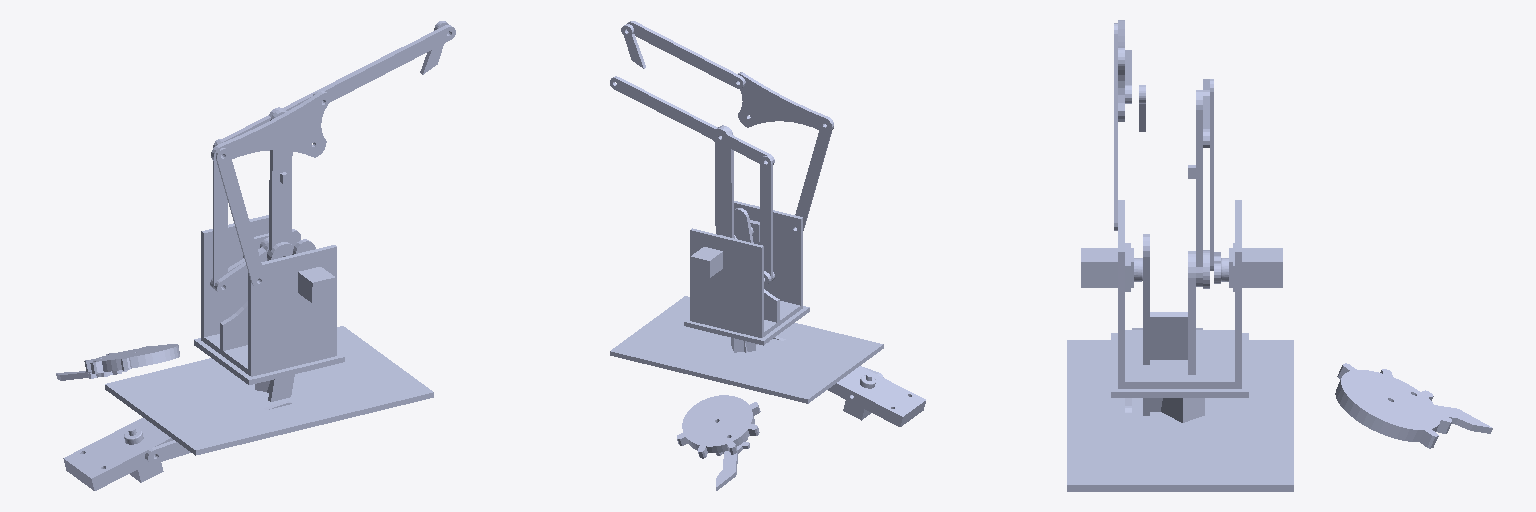
robot.urdf — robot_arm_urdf2:
<?xml version="1.0" encoding="utf-8"?>
<!-- This URDF was automatically created by SolidWorks to URDF Exporter! Originally created by [author] ([email redacted]) 
     Commit Version: 1.6.0-4-g7f85cfe  Build Version: 1.6.7995.38578
     For more information, please see http://wiki.ros.org/sw_urdf_exporter -->
<robot
  name="robot_arm_urdf2">
  <link
    name="base_link">
    <inertial>
      <origin
        xyz="0.00098773 0.00036668 0.026759"
        rpy="0 0 0" />
      <mass
        value="0.09553" />
      <inertia
        ixx="4.2897E-05"
        ixy="-2.011E-08"
        ixz="-3.3533E-07"
        iyy="8.7515E-05"
        iyz="4.8236E-09"
        izz="0.00011674" />
    </inertial>
    <visual>
      <origin
        xyz="0 0 0"
        rpy="0 0 0" />
      <geometry>
        <mesh
          filename="package://robot_arm_urdf2/meshes/base_link.STL" />
      </geometry>
      <material
        name="">
        <color
          rgba="0.79216 0.81961 0.93333 1" />
      </material>
    </visual>
    <collision>
      <origin
        xyz="0 0 0"
        rpy="0 0 0" />
      <geometry>
        <mesh
          filename="package://robot_arm_urdf2/meshes/base_link.STL" />
      </geometry>
    </collision>
  </link>
  <link
    name="Link_2">
    <inertial>
      <origin
        xyz="0.010261 0.00032954 0.054832"
        rpy="0 0 0" />
      <mass
        value="0.009426" />
      <inertia
        ixx="3.9911E-06"
        ixy="-1.7068E-10"
        ixz="-4.2478E-07"
        iyy="5.4466E-06"
        iyz="-1.3984E-08"
        izz="1.6595E-06" />
    </inertial>
    <visual>
      <origin
        xyz="0 0 0"
        rpy="0 0 0" />
      <geometry>
        <mesh
          filename="package://robot_arm_urdf2/meshes/Link_2.STL" />
      </geometry>
      <material
        name="">
        <color
          rgba="0.79216 0.81961 0.93333 1" />
      </material>
    </visual>
    <collision>
      <origin
        xyz="0 0 0"
        rpy="0 0 0" />
      <geometry>
        <mesh
          filename="package://robot_arm_urdf2/meshes/Link_2.STL" />
      </geometry>
    </collision>
  </link>
  <joint
    name="joint_2"
    type="revolute">
    <origin
      xyz="0.011 -0.0125 0.074"
      rpy="0 0 0" />
    <parent
      link="base_link" />
    <child
      link="Link_2" />
    <axis
      xyz="0 1 0" />
    <limit
      lower="3.48"
      upper="3.142"
      effort="300"
      velocity="3" />
  </joint>
  <link
    name="Link_3">
    <inertial>
      <origin
        xyz="0.083282 -0.01623 0.024264"
        rpy="0 0 0" />
      <mass
        value="0.015764" />
      <inertia
        ixx="1.3569E-06"
        ixy="4.4614E-10"
        ixz="-2.8646E-07"
        iyy="1.357E-06"
        iyz="-9.9912E-10"
        izz="1.8908E-06" />
    </inertial>
    <visual>
      <origin
        xyz="0 0 0"
        rpy="0 0 0" />
      <geometry>
        <mesh
          filename="package://robot_arm_urdf2/meshes/Link_3.STL" />
      </geometry>
      <material
        name="">
        <color
          rgba="0.79216 0.81961 0.93333 1" />
      </material>
    </visual>
    <collision>
      <origin
        xyz="0 0 0"
        rpy="0 0 0" />
      <geometry>
        <mesh
          filename="package://robot_arm_urdf2/meshes/Link_3.STL" />
      </geometry>
    </collision>
  </link>
  <joint
    name="joint_3"
    type="revolute">
    <origin
      xyz="0.00091242 0.0235 0.076995"
      rpy="0 0 0" />
    <parent
      link="Link_2" />
    <child
      link="Link_3" />
    <axis
      xyz="0 -1 0" />
    <limit
      lower="0"
      upper="0"
      effort="0"
      velocity="0" />
  </joint>
  <link
    name="Link_4">
    <inertial>
      <origin
        xyz="0.097771 -0.0066902 0.16372"
        rpy="0 0 0" />
      <mass
        value="0.011801" />
      <inertia
        ixx="1.8122E-06"
        ixy="-4.669E-08"
        ixz="-6.0989E-07"
        iyy="1.7021E-06"
        iyz="-2.0848E-08"
        izz="2.9057E-06" />
    </inertial>
    <visual>
      <origin
        xyz="0 0 0"
        rpy="0 0 0" />
      <geometry>
        <mesh
          filename="package://robot_arm_urdf2/meshes/Link_4.STL" />
      </geometry>
      <material
        name="">
        <color
          rgba="0.79216 0.81961 0.93333 1" />
      </material>
    </visual>
    <collision>
      <origin
        xyz="0 0 0"
        rpy="0 0 0" />
      <geometry>
        <mesh
          filename="package://robot_arm_urdf2/meshes/Link_4.STL" />
      </geometry>
    </collision>
  </link>
  <joint
    name="joint_4"
    type="revolute">
    <origin
      xyz="-0.011912 -0.011 -0.15099"
      rpy="0 0 0" />
    <parent
      link="Link_3" />
    <child
      link="Link_4" />
    <axis
      xyz="0 0 1" />
    <limit
      lower="0.87"
      upper="1.571"
      effort="300"
      velocity="3" />
  </joint>
  <link
    name="Link_5">
    <inertial>
      <origin
        xyz="0.00011656 -0.0031438 0.03813"
        rpy="0 0 0" />
      <mass
        value="0.0098791" />
      <inertia
        ixx="2.9408E-06"
        ixy="1.2652E-11"
        ixz="-9.9219E-07"
        iyy="6.6353E-06"
        iyz="1.0676E-09"
        izz="3.709E-06" />
    </inertial>
    <visual>
      <origin
        xyz="0 0 0"
        rpy="0 0 0" />
      <geometry>
        <mesh
          filename="package://robot_arm_urdf2/meshes/Link_5.STL" />
      </geometry>
      <material
        name="">
        <color
          rgba="0.79216 0.81961 0.93333 1" />
      </material>
    </visual>
    <collision>
      <origin
        xyz="0 0 0"
        rpy="0 0 0" />
      <geometry>
        <mesh
          filename="package://robot_arm_urdf2/meshes/Link_5.STL" />
      </geometry>
    </collision>
  </link>
  <joint
    name="joint_5"
    type="revolute">
    <origin
      xyz="0.011 0.014 0.074"
      rpy="0 0 0" />
    <parent
      link="base_link" />
    <child
      link="Link_5" />
    <axis
      xyz="0 -1 0" />
    <limit
      lower="0"
      upper="1.65"
      effort="300"
      velocity="3" />
  </joint>
  <link
    name="Link_6">
    <inertial>
      <origin
        xyz="0.058512 0.0011651 0.0054999"
        rpy="0 0 0" />
      <mass
        value="0.0070977" />
      <inertia
        ixx="8.6666E-07"
        ixy="1.3043E-21"
        ixz="-2.1265E-07"
        iyy="3.254E-06"
        iyz="3.0712E-22"
        izz="2.3969E-06" />
    </inertial>
    <visual>
      <origin
        xyz="0 0 0"
        rpy="0 0 0" />
      <geometry>
        <mesh
          filename="package://robot_arm_urdf2/meshes/Link_6.STL" />
      </geometry>
      <material
        name="">
        <color
          rgba="0.79216 0.81961 0.93333 1" />
      </material>
    </visual>
    <collision>
      <origin
        xyz="0 0 0"
        rpy="0 0 0" />
      <geometry>
        <mesh
          filename="package://robot_arm_urdf2/meshes/Link_6.STL" />
      </geometry>
    </collision>
  </link>
  <joint
    name="joint_6"
    type="revolute">
    <origin
      xyz="-0.043546 -0.0245 0.15804"
      rpy="0 0 0" />
    <parent
      link="base_link" />
    <child
      link="Link_6" />
    <axis
      xyz="0 -1 0" />
    <limit
      lower="0"
      upper="3.142"
      effort="300"
      velocity="3" />
  </joint>
</robot>

--- What the picture shows (computed from the rendered views, not written in the file) ---
Views: 3 orthographic renders of the robot side by side, from view 1: azimuth 30°, elevation 25°; view 2: azimuth 150°, elevation 25°; view 3: azimuth 270°, elevation 25°.
Model robot_arm_urdf2 with 6 links and 5 joints (5 revolute), rooted at base_link, posed all joints at 0 but 2 set to mid-range because 0 is outside their limits (joint_2 = 3.31, joint_4 = 1.22).
Visible links, largest first — view 1: base_link, Link_6, Link_5, Link_3, Link_4, Link_2; view 2: base_link, Link_6, Link_5, Link_4, Link_3, Link_2; view 3: base_link, Link_4, Link_5, Link_2, Link_6.
Boxes of the visible links, box(x1,y1,x2,y2) form: base_link: box(105, 215, 433, 455); Link_6: box(211, 21, 455, 287); Link_5: box(210, 47, 401, 294); Link_3: box(63, 418, 172, 490); Link_4: box(56, 344, 179, 380); Link_2: box(145, 239, 315, 463); base_link: box(610, 201, 883, 403); Link_6: box(621, 21, 833, 230); Link_5: box(610, 76, 774, 284); Link_4: box(677, 395, 760, 490); Link_3: box(828, 366, 925, 426); Link_2: box(734, 208, 883, 377); base_link: box(1067, 200, 1293, 491); Link_4: box(1335, 363, 1492, 448); Link_5: box(1188, 79, 1220, 288); Link_2: box(1125, 234, 1187, 415); Link_6: box(1114, 20, 1145, 230).
Size in the robot's own frame: 0.2183 by 0.1786 by 0.2303 metres.
Meshes: 6 distinct files referenced, 6 mesh visuals loaded (6 binary STL).